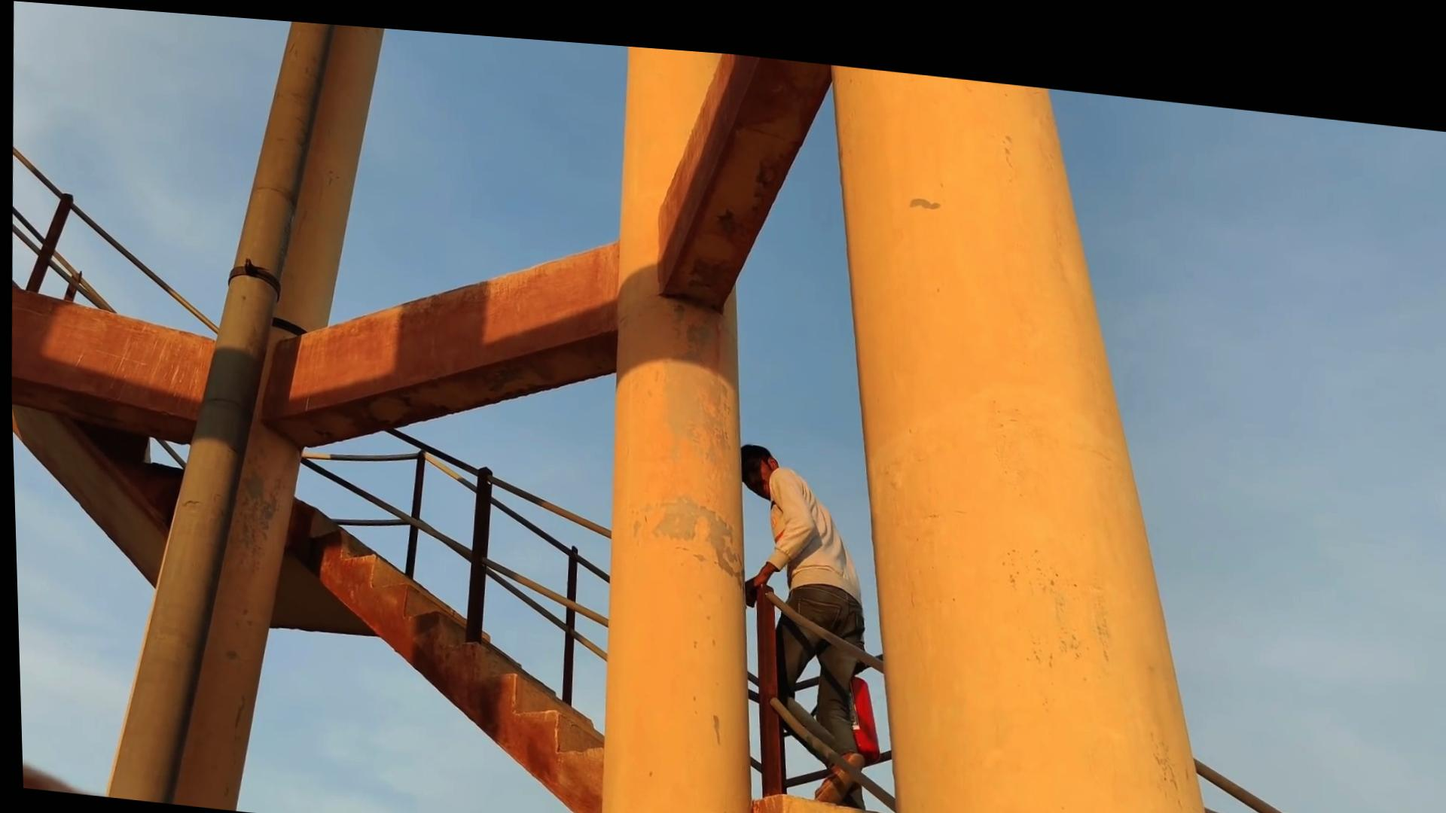FireExtinguisher: (828, 642, 887, 754)
